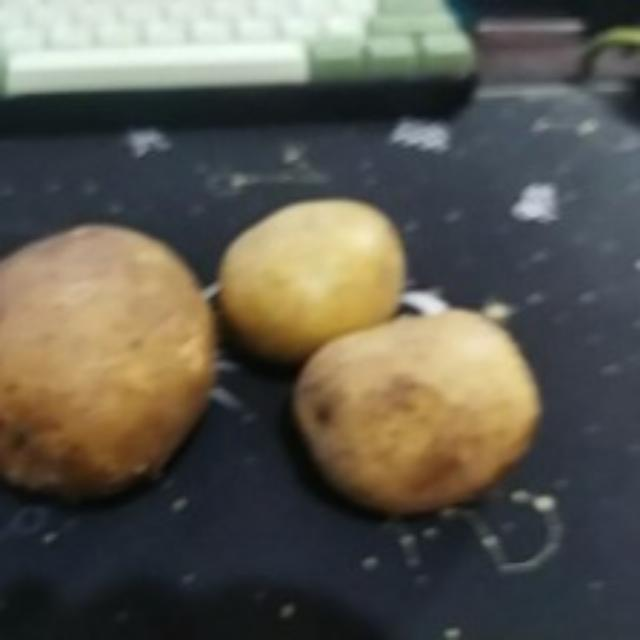Damaged potato: (3, 216, 225, 498), (291, 304, 545, 518)
Potato: (214, 197, 408, 365)
